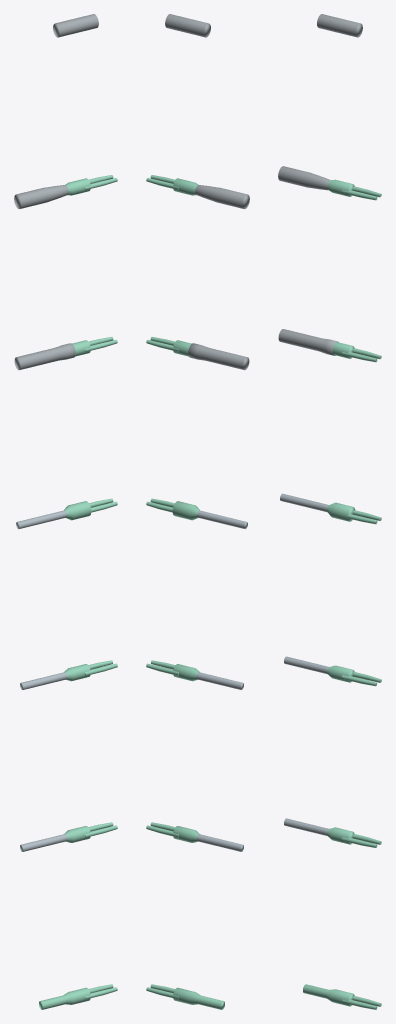
File: nock_systems.glb
3 renders of one model, left to right at view 1: azimuth 30°, elevation 25°; view 2: azimuth 150°, elevation 25°; view 3: azimuth 330°, elevation 25°, orthographic.
Visible parts, largest first — view 1: swaged_conventional, bushing_insert, pin_out, pin_large, pin_small, direct_insert_166, rear_impact_collar; view 2: swaged_conventional, bushing_insert, pin_out, pin_large, pin_small, direct_insert_166, rear_impact_collar; view 3: swaged_conventional, bushing_insert, pin_out, pin_large, pin_small, direct_insert_166, rear_impact_collar.
Part boxes in pixels (x1=…): swaged_conventional: x1=14, y1=175, x2=117, y2=209; bushing_insert: x1=14, y1=337, x2=117, y2=370; pin_out: x1=16, y1=498, x2=117, y2=529; pin_large: x1=20, y1=660, x2=117, y2=689; pin_small: x1=20, y1=822, x2=117, y2=851; direct_insert_166: x1=39, y1=984, x2=117, y2=1009; rear_impact_collar: x1=53, y1=14, x2=98, y2=37; swaged_conventional: x1=146, y1=175, x2=249, y2=209; bushing_insert: x1=146, y1=337, x2=249, y2=370; pin_out: x1=146, y1=498, x2=247, y2=529; pin_large: x1=146, y1=660, x2=243, y2=689; pin_small: x1=146, y1=822, x2=243, y2=851; direct_insert_166: x1=146, y1=984, x2=224, y2=1009; rear_impact_collar: x1=165, y1=14, x2=210, y2=37; swaged_conventional: x1=278, y1=166, x2=381, y2=200; bushing_insert: x1=278, y1=329, x2=381, y2=362; pin_out: x1=280, y1=493, x2=381, y2=524; pin_large: x1=284, y1=656, x2=381, y2=686; pin_small: x1=284, y1=818, x2=381, y2=847; direct_insert_166: x1=303, y1=984, x2=381, y2=1009; rear_impact_collar: x1=317, y1=14, x2=362, y2=37.
Bounding box in the file's own units: 0.05 × 0.4862 × 0.0069.
